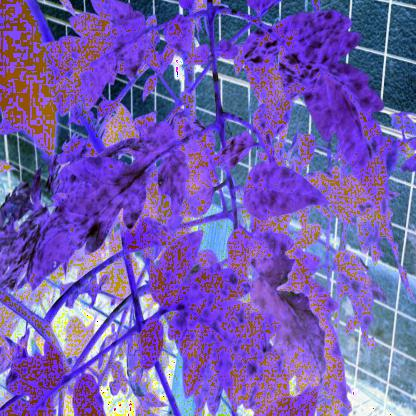Tomato mold leaf: (267, 18, 416, 287), (30, 120, 188, 293), (144, 230, 285, 408), (32, 1, 167, 106), (235, 160, 338, 219), (212, 131, 250, 170)
